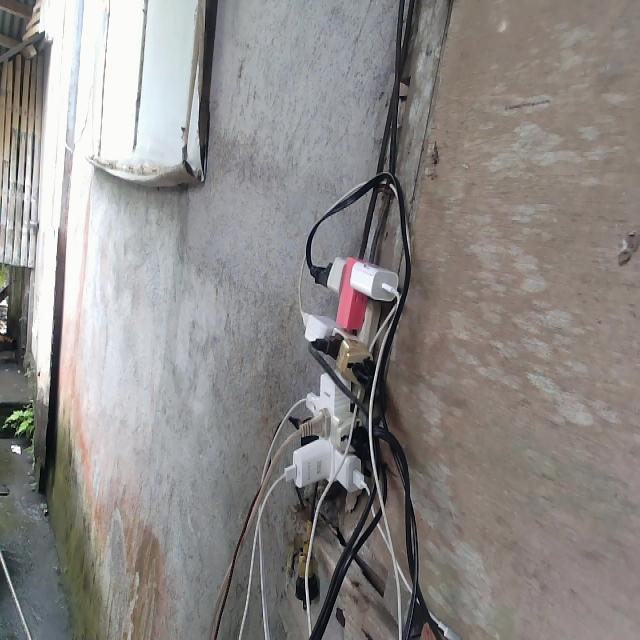-: (278, 251, 403, 496)
